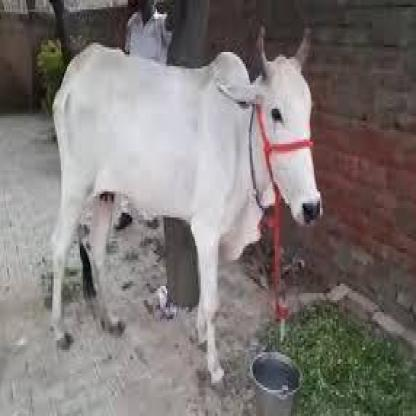cow: (50, 26, 325, 385)
